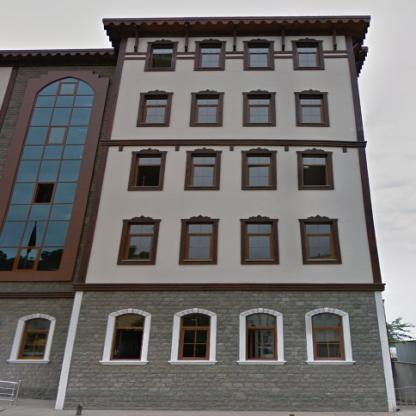window: (0, 76, 93, 271), (112, 314, 144, 359), (312, 313, 342, 358), (180, 314, 210, 358), (20, 318, 51, 358), (248, 314, 276, 358), (306, 223, 335, 259), (187, 222, 213, 260), (127, 224, 154, 259), (247, 223, 272, 260), (191, 155, 216, 186), (303, 156, 329, 185), (136, 156, 161, 186), (144, 96, 168, 124), (247, 156, 270, 185), (299, 98, 323, 124), (196, 96, 217, 124), (296, 45, 319, 67), (149, 47, 173, 68), (248, 98, 268, 122), (200, 45, 220, 67), (248, 45, 268, 67)
